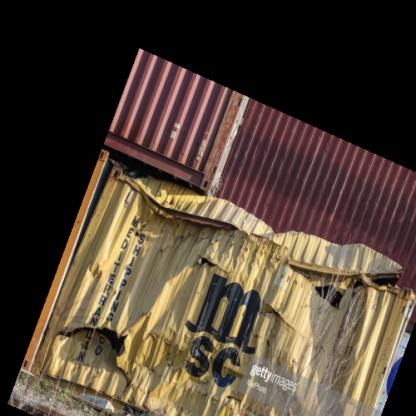Damage: (275, 227, 411, 317), (40, 306, 157, 394), (109, 169, 239, 242), (161, 324, 260, 376), (214, 385, 279, 415)
